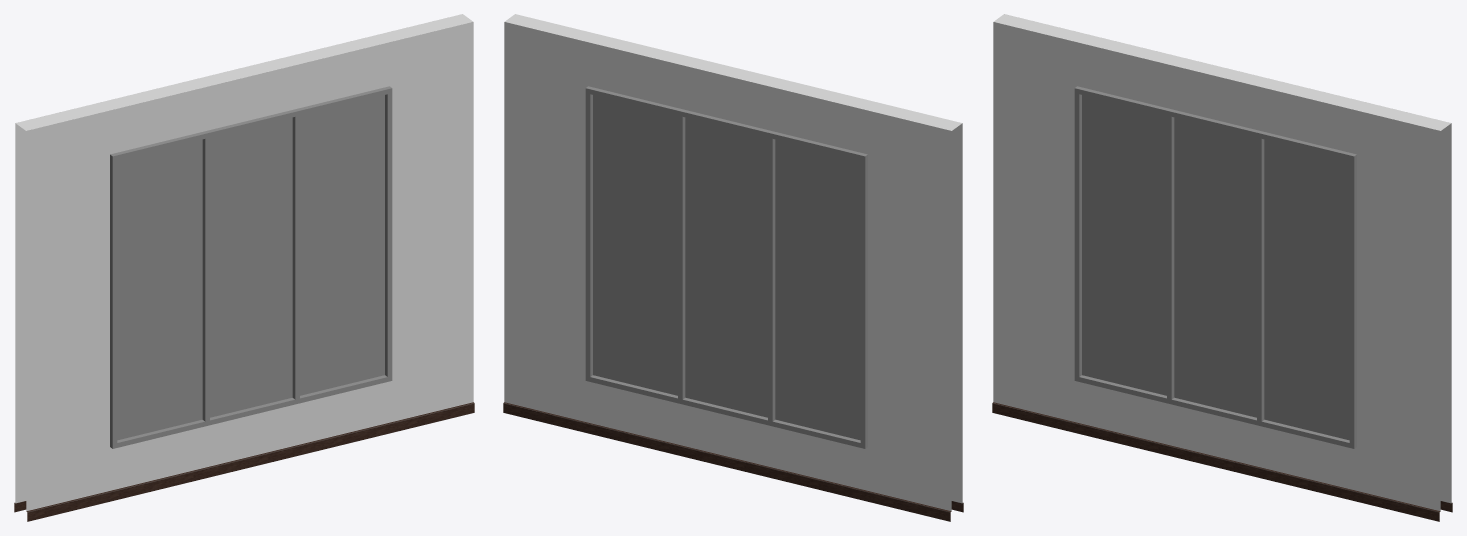
Rendered from Wall_2.FBX.
3 renders of one model, left to right at view 1: azimuth 30°, elevation 25°; view 2: azimuth 150°, elevation 25°; view 3: azimuth 330°, elevation 25°, orthographic.
Parts seen in each view (by area): view 1: wall_2, 对象003, 对象002; view 2: wall_2, 对象003, 对象002; view 3: wall_2, 对象003, 对象002.
Part boxes in pixels (<box>): wall_2: <box>14,14,474,521</box>; 对象003: <box>117,95,384,440</box>; 对象002: <box>110,86,392,448</box>; wall_2: <box>503,14,963,521</box>; 对象003: <box>593,95,860,440</box>; 对象002: <box>585,86,867,448</box>; wall_2: <box>992,14,1452,521</box>; 对象003: <box>1082,95,1349,440</box>; 对象002: <box>1074,86,1356,448</box>.
Bounding box in the file's own units: 4.8 × 4 × 0.3.
3 materials, 1 textured.
